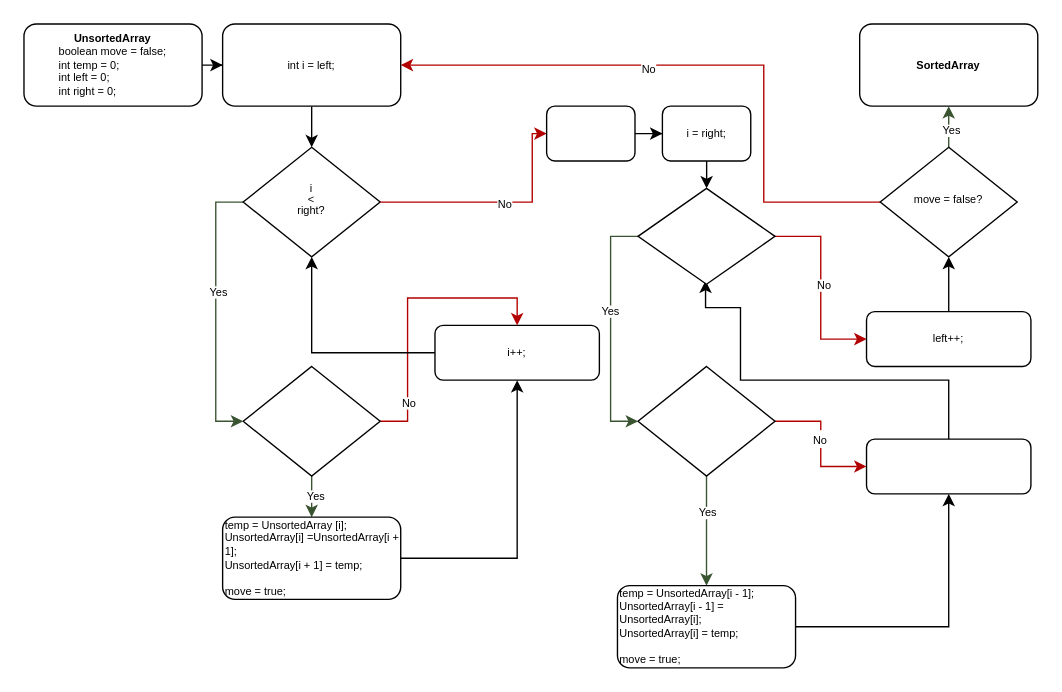
Image size: 1062x692. Some labels were removed from this diagram. The box of each missing label's shape, as (x1, y1, x2, y2) in pixels:
i > left?: (637, 187, 775, 284)
i--;: (865, 438, 1031, 494)
right--;: (545, 105, 635, 161)
UnsortedArray[i-1] > UnsortedArray[i] ?: (637, 365, 775, 476)
UnsortedArray[i] > UnsortedArray[i + 1 ] ?: (242, 365, 380, 476)
